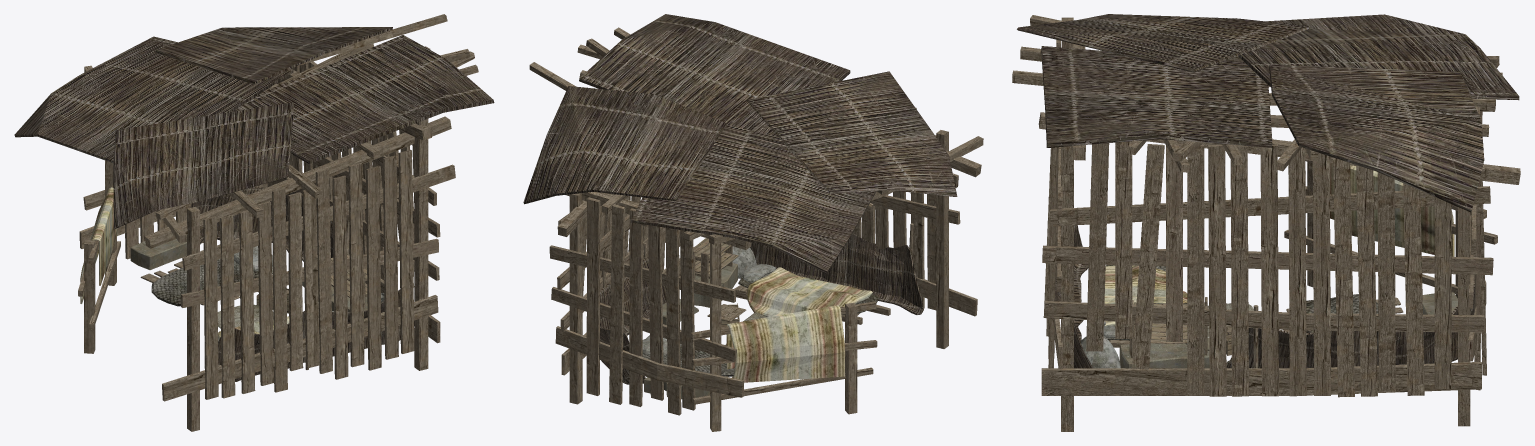
The model's file is TW2_1_HUT_01_3-transformed.glb.
3 views of the same model, side by side, from view 1: azimuth 30°, elevation 25°; view 2: azimuth 150°, elevation 25°; view 3: azimuth 270°, elevation 25° (orthographic). The views are drawn at different scales.
Parts seen in each view (by area): view 1: default; view 2: default; view 3: default.
Part boxes in pixels (<box>): default: <box>14,14,494,431</box>; default: <box>523,14,983,431</box>; default: <box>1012,14,1520,431</box>.
Bounding box in the file's own units: 8.04 × 5.4 × 7.3.
Materials: 5 (5 with a texture image).
